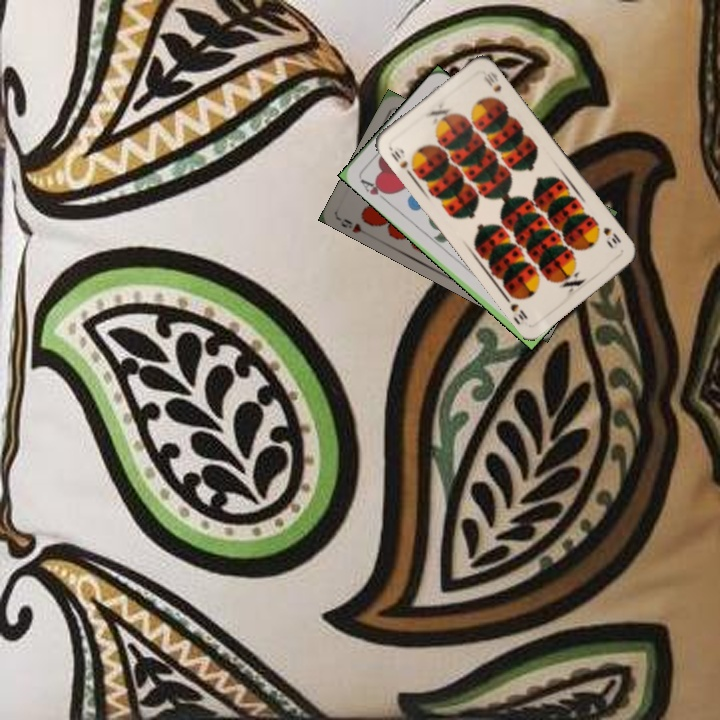H9: (337, 215, 364, 235)
HA: (356, 175, 392, 204)
S10: (387, 147, 414, 178), (599, 223, 624, 250)
